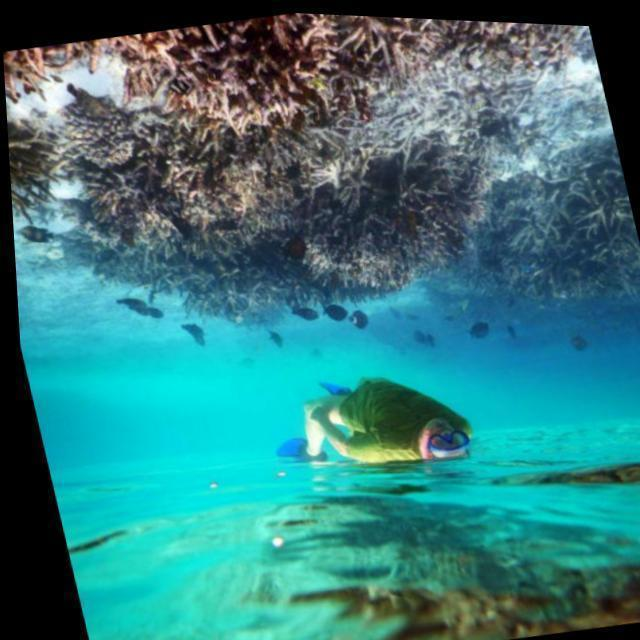Dead Coral: (47, 84, 523, 361), (198, 7, 347, 120), (422, 15, 598, 84)
